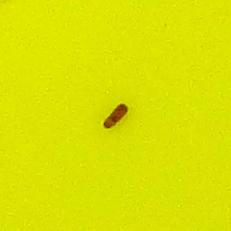Coleoptera: (100, 100, 131, 131)
